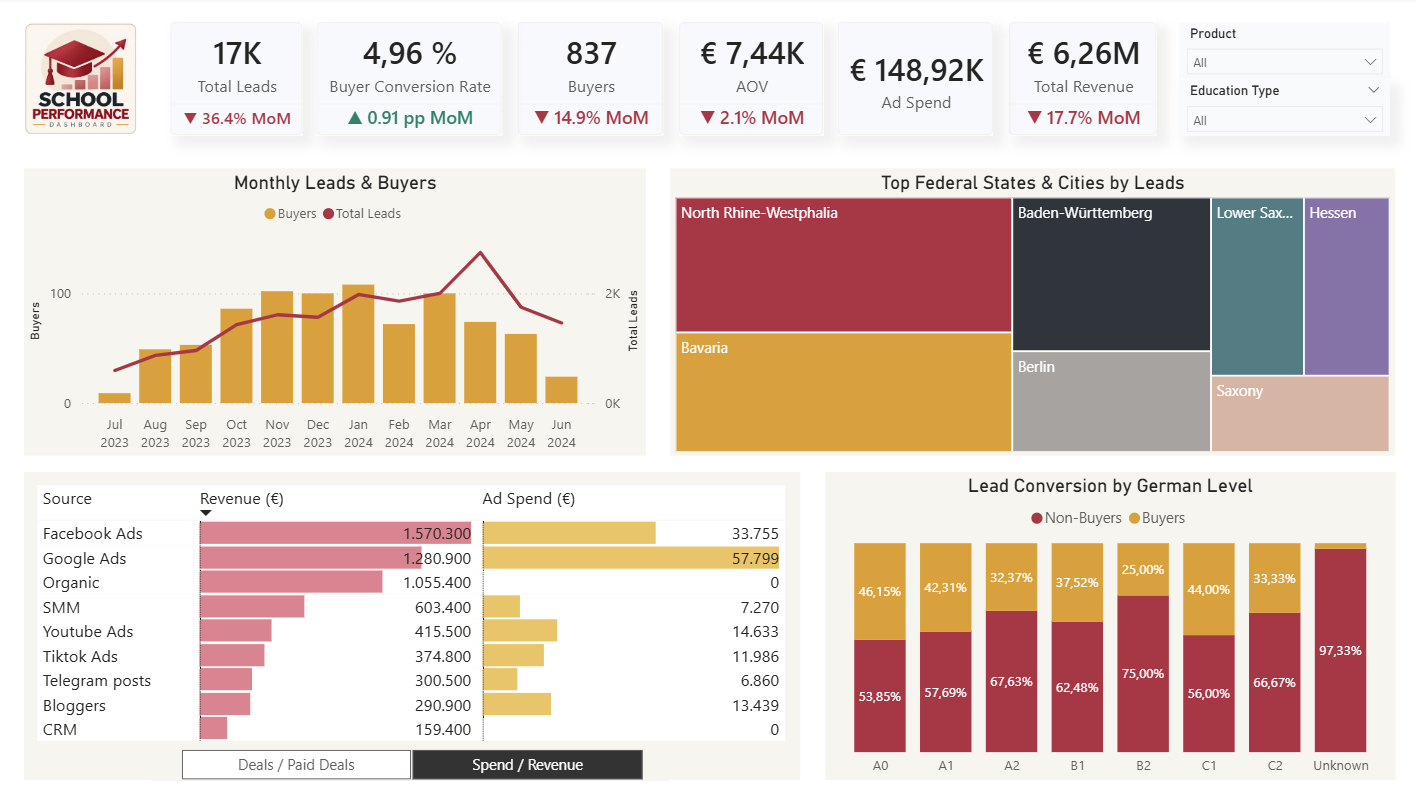

Layout of this report page (visuals, bound fields, positions):
{"tool":"powerbi","page":{"name":"Page 1","canvas":[1280,720],"ordinal":0},"visuals":[{"type":"lineClusteredColumnComboChart","title":"Monthly Leads & Buyers","fields":{"Category":["CALENDAR.Year Month"],"Y2":["Deals.Total Leads"],"Y":["Deals.Buyers"]},"box":[22,155,561.1,259.5],"z":0},{"type":"hundredPercentStackedColumnChart","title":"Lead Conversion by German Level","fields":{"Y":["Deals.Non-Buyers","Deals.Buyers"],"Category":["German Levels.Level"]},"box":[744.5,428,514.2,277.9],"z":1000},{"type":"cardVisual","fields":{"Data":["Deals.Total Leads"]},"box":[154,22.9,119.2,102.7],"z":2000},{"type":"cardVisual","fields":{"Data":["Deals.Buyers"]},"box":[468.2,22.9,131.1,102.7],"z":3000},{"type":"cardVisual","fields":{"Data":["Deals.Buyer Conversion Rate"]},"box":[286.8,22.9,167.8,102.7],"z":4000},{"type":"cardVisual","fields":{"Data":["Deals.AOV"]},"box":[612.9,22.9,130.2,102.7],"z":5000},{"type":"cardVisual","fields":{"Data":["Deals.Total Revenue"]},"box":[910.5,22.9,133.9,102.7],"z":6000},{"type":"cardVisual","fields":{"Data":["Spend.Ad Spend KPI"]},"box":[756.6,22.9,140.3,102.7],"z":7000},{"type":"treemap","title":"Top Federal States & Cities by Leads","fields":{"Group":["Deals.federal_state","Deals.City"],"Values":["Deals.City Top 8"]},"box":[605.2,155,653.8,259.5],"z":8000},{"type":"pivotTable","fields":{"Values":["Deals.Revenue for Source Chart","Spend.Total Spend"],"Rows":["Sources.Source"]},"box":[22.3,428,699.8,277.9],"z":9000},{"type":"slicer","fields":{"Values":["Source Metrics.Metric Group"]},"box":[139,671.4,465.5,35.5],"z":10000},{"type":"slicer","fields":{"Values":["Deals.Education Type"]},"box":[1063.7,74.3,190.7,51.3],"z":11000},{"type":"slicer","fields":{"Values":["Deals.Product"]},"box":[1063.7,22.9,190.7,51.3],"z":12000},{"type":"image","box":[22,22.9,102.7,102.7],"z":13000}]}

Visuals, with their boxes in screenshot pixels (x1, y1, x2, y2), scaled from the page's 1280x720 canvas onto the 1416x792 screenshot:
"Monthly Leads & Buyers" lineClusteredColumnComboChart: [24, 170, 645, 456]
"Lead Conversion by German Level" hundredPercentStackedColumnChart: [824, 471, 1392, 776]
cardVisual - Deals.Total Leads: [170, 25, 302, 138]
cardVisual - Deals.Buyers: [518, 25, 663, 138]
cardVisual - Deals.Buyer Conversion Rate: [317, 25, 503, 138]
cardVisual - Deals.AOV: [678, 25, 822, 138]
cardVisual - Deals.Total Revenue: [1007, 25, 1155, 138]
cardVisual - Spend.Ad Spend KPI: [837, 25, 992, 138]
"Top Federal States & Cities by Leads" treemap: [670, 170, 1393, 456]
pivotTable - Deals.Revenue for Source Chart x Spend.Total Spend: [25, 471, 799, 776]
slicer - Source Metrics.Metric Group: [154, 739, 669, 778]
slicer - Deals.Education Type: [1177, 82, 1388, 138]
slicer - Deals.Product: [1177, 25, 1388, 82]
image: [24, 25, 138, 138]
